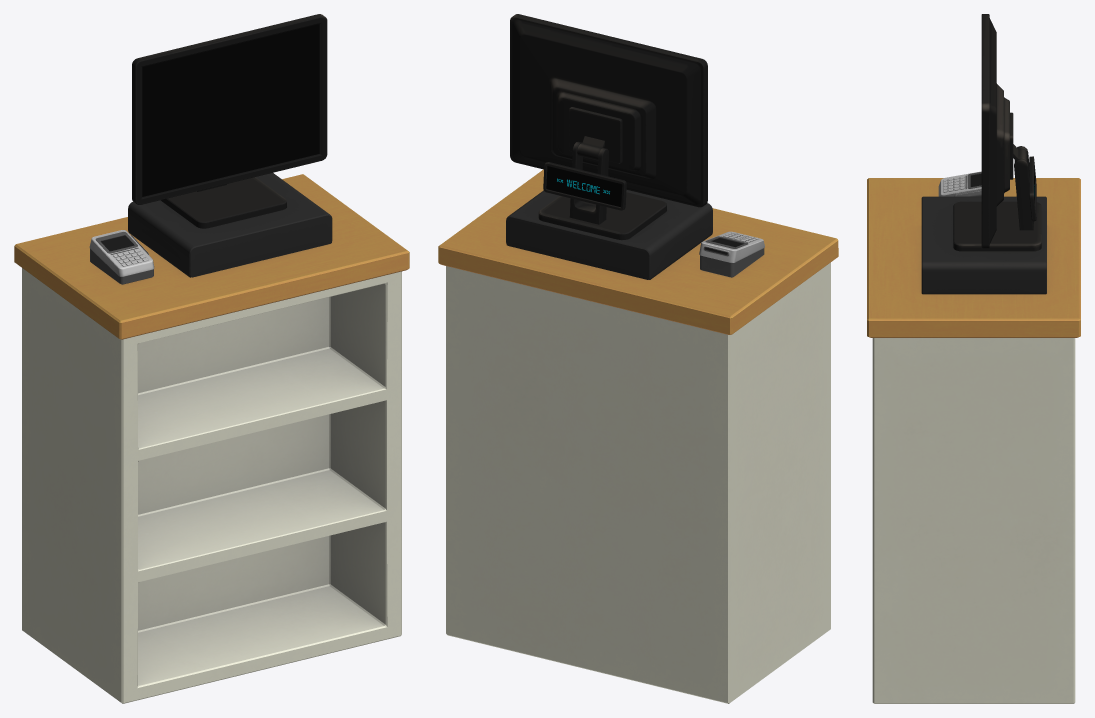
The model's file is JapaneseRestaurant_Counter.fbx.
3 views of the same model, side by side, from view 1: azimuth 30°, elevation 25°; view 2: azimuth 150°, elevation 25°; view 3: azimuth 270°, elevation 25° (orthographic).
Parts seen in each view (by area): view 1: JapaneseRestaurant_Counter; view 2: JapaneseRestaurant_Counter; view 3: JapaneseRestaurant_Counter.
Part boxes in pixels (x1,y1,x2,y2): JapaneseRestaurant_Counter: [14, 14, 409, 703]; JapaneseRestaurant_Counter: [438, 14, 838, 703]; JapaneseRestaurant_Counter: [867, 14, 1080, 703].
Bounding box in the file's own units: 65.64 × 127 × 41.73.
